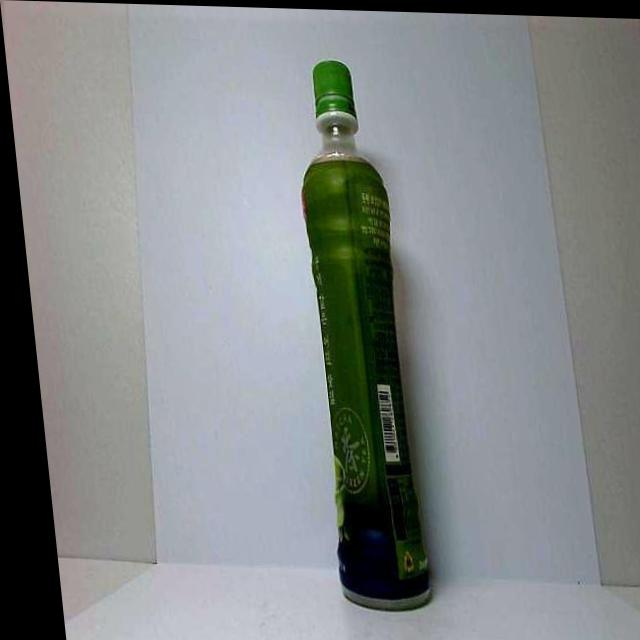Non-biodegradable: (287, 59, 420, 611)
